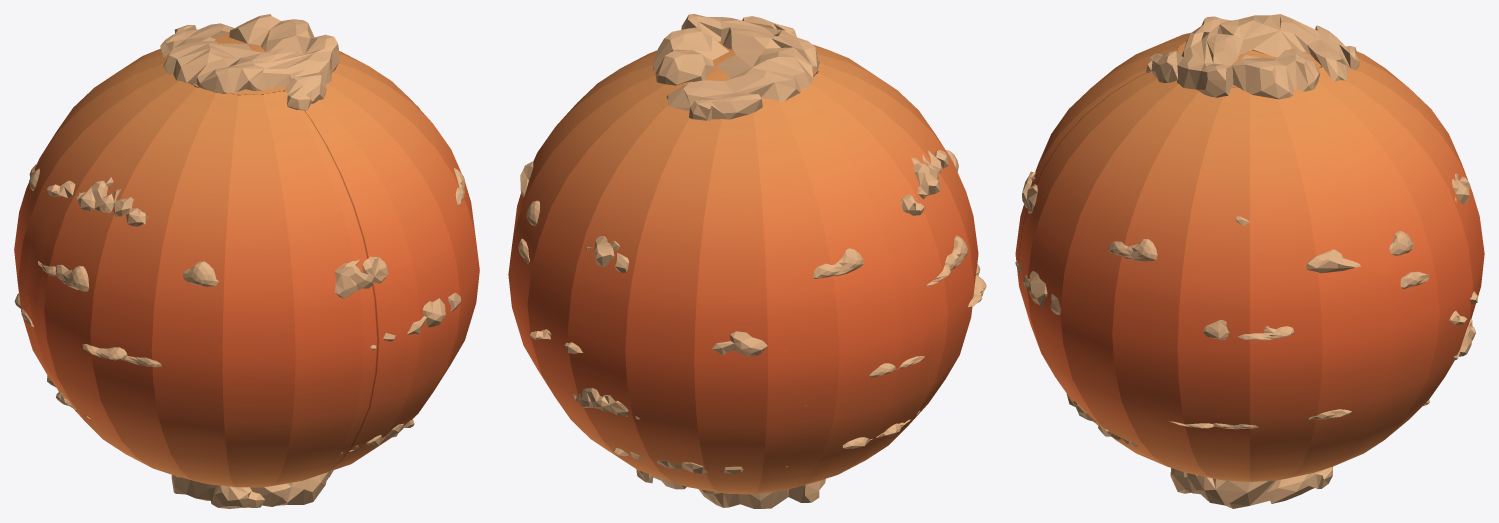
File: Mundo.obj
3 renders of one model, left to right at view 1: azimuth 30°, elevation 25°; view 2: azimuth 150°, elevation 25°; view 3: azimuth 270°, elevation 25°, orthographic.
Visible parts, largest first — view 1: mundo:Mesh, Nubes:Mesh; view 2: mundo:Mesh, Nubes:Mesh; view 3: mundo:Mesh, Nubes:Mesh.
Boxes of the visible parts, x1,y1,x2,y2 form: mundo:Mesh: (14, 33, 479, 487); Nubes:Mesh: (14, 14, 464, 508); mundo:Mesh: (508, 41, 978, 494); Nubes:Mesh: (518, 14, 986, 508); mundo:Mesh: (1015, 33, 1484, 481); Nubes:Mesh: (1015, 14, 1477, 508).
Size of the model in its own units: 546 by 566 by 542.
Materials: 2 (2 with a texture image).
